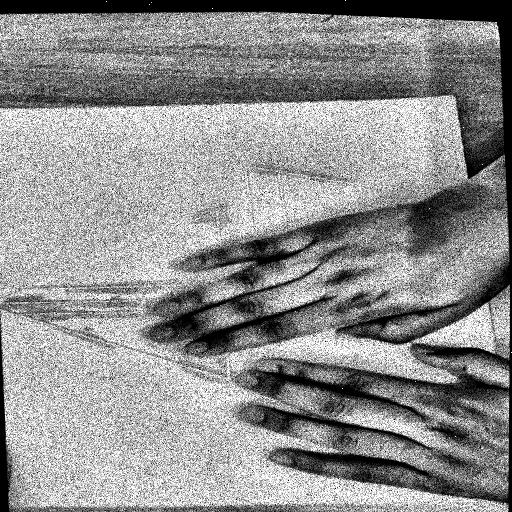boat: (0, 156, 404, 441)
bottom_left: (497, 492, 509, 501)
bottom_right: (444, 90, 458, 100)
